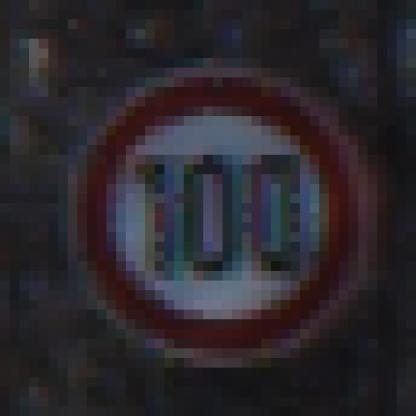Speed Limit 100: (78, 77, 360, 364)
